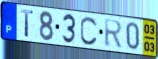0: (125, 22, 141, 51)
3: (62, 14, 77, 45)
8: (38, 10, 55, 42)
C: (80, 15, 99, 47)
R: (103, 18, 124, 49)
T: (20, 8, 35, 39)
